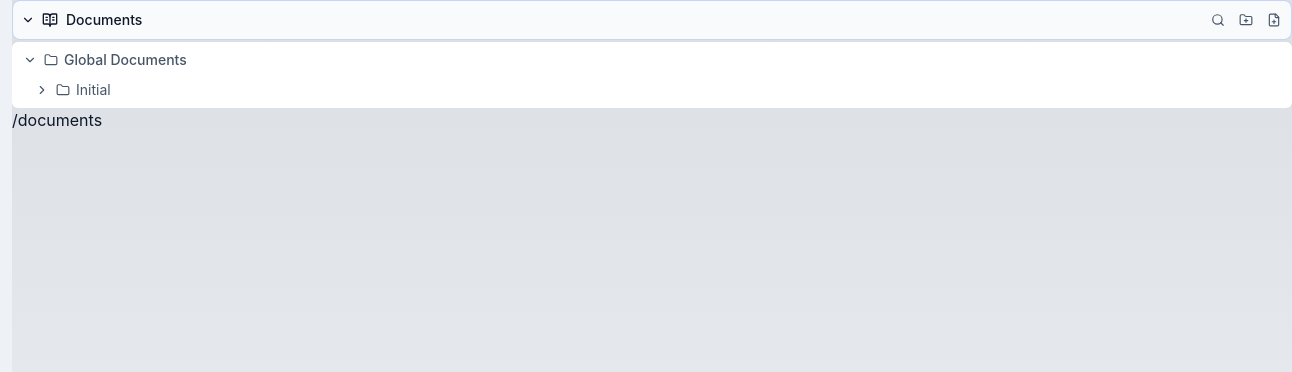
Scenario: DocumentsSidebarSection › refreshes the document tree once when manually reopened
Expected: the text "Initial" is shown, [76,81,111,98]
Click the button named "Collapse Documents" at (28, 20), box [18,10,38,30]
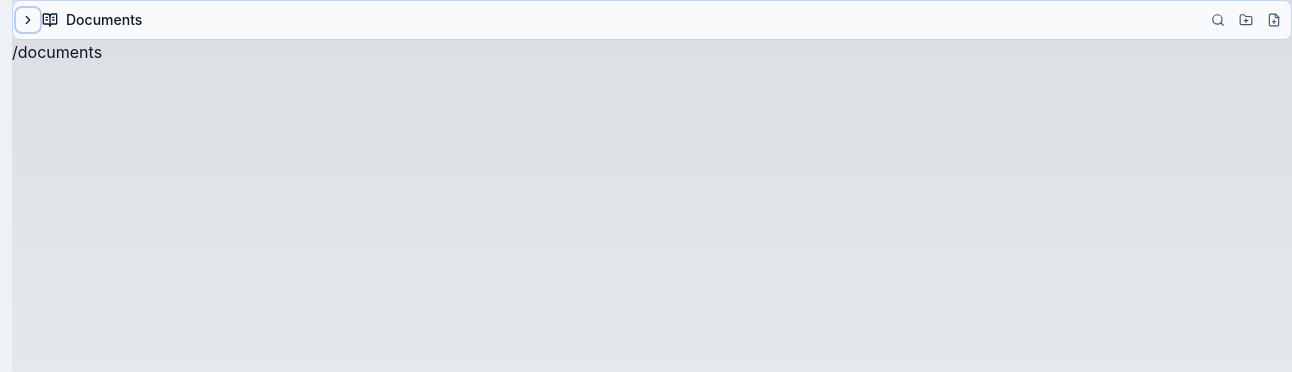
Click the button named "Expand Documents" at (28, 20), box [18,10,38,30]
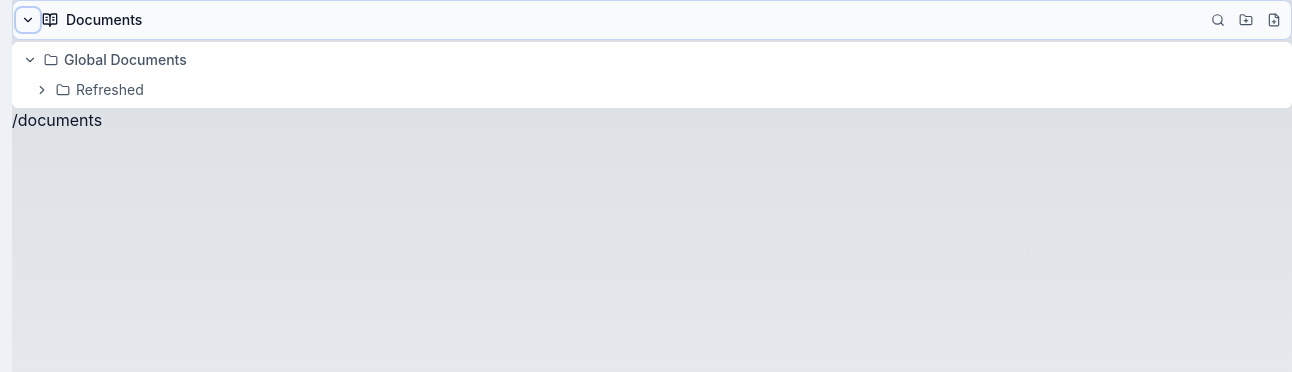
Result: the text "Refreshed" is shown at [76,81,144,98]
